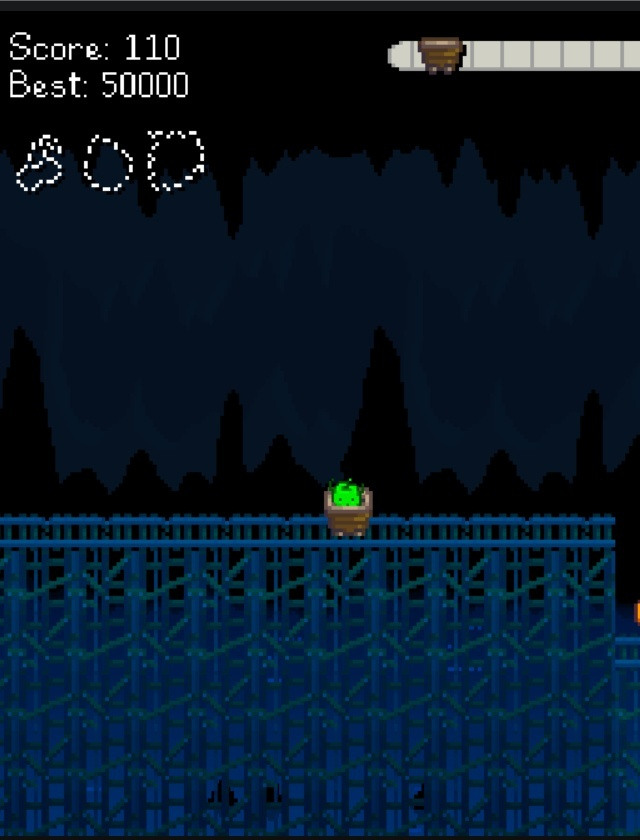minecart: (324, 488, 371, 535)
tracks: (0, 510, 320, 555), (384, 510, 623, 554)
